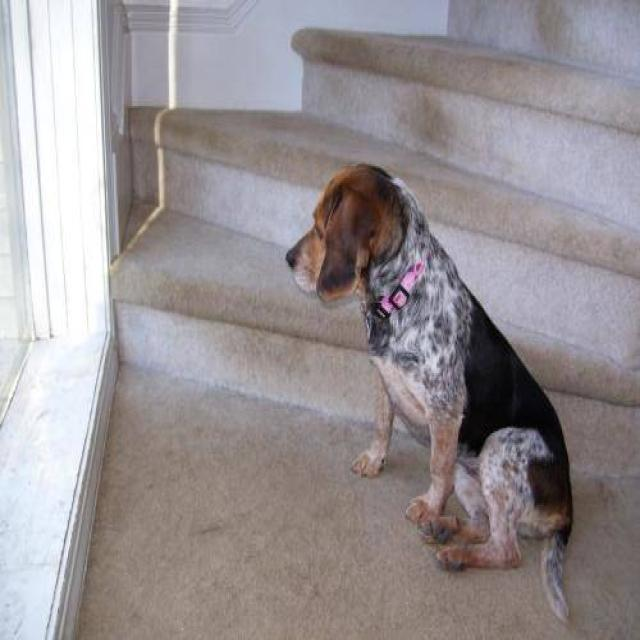dog: (284, 161, 574, 624)
